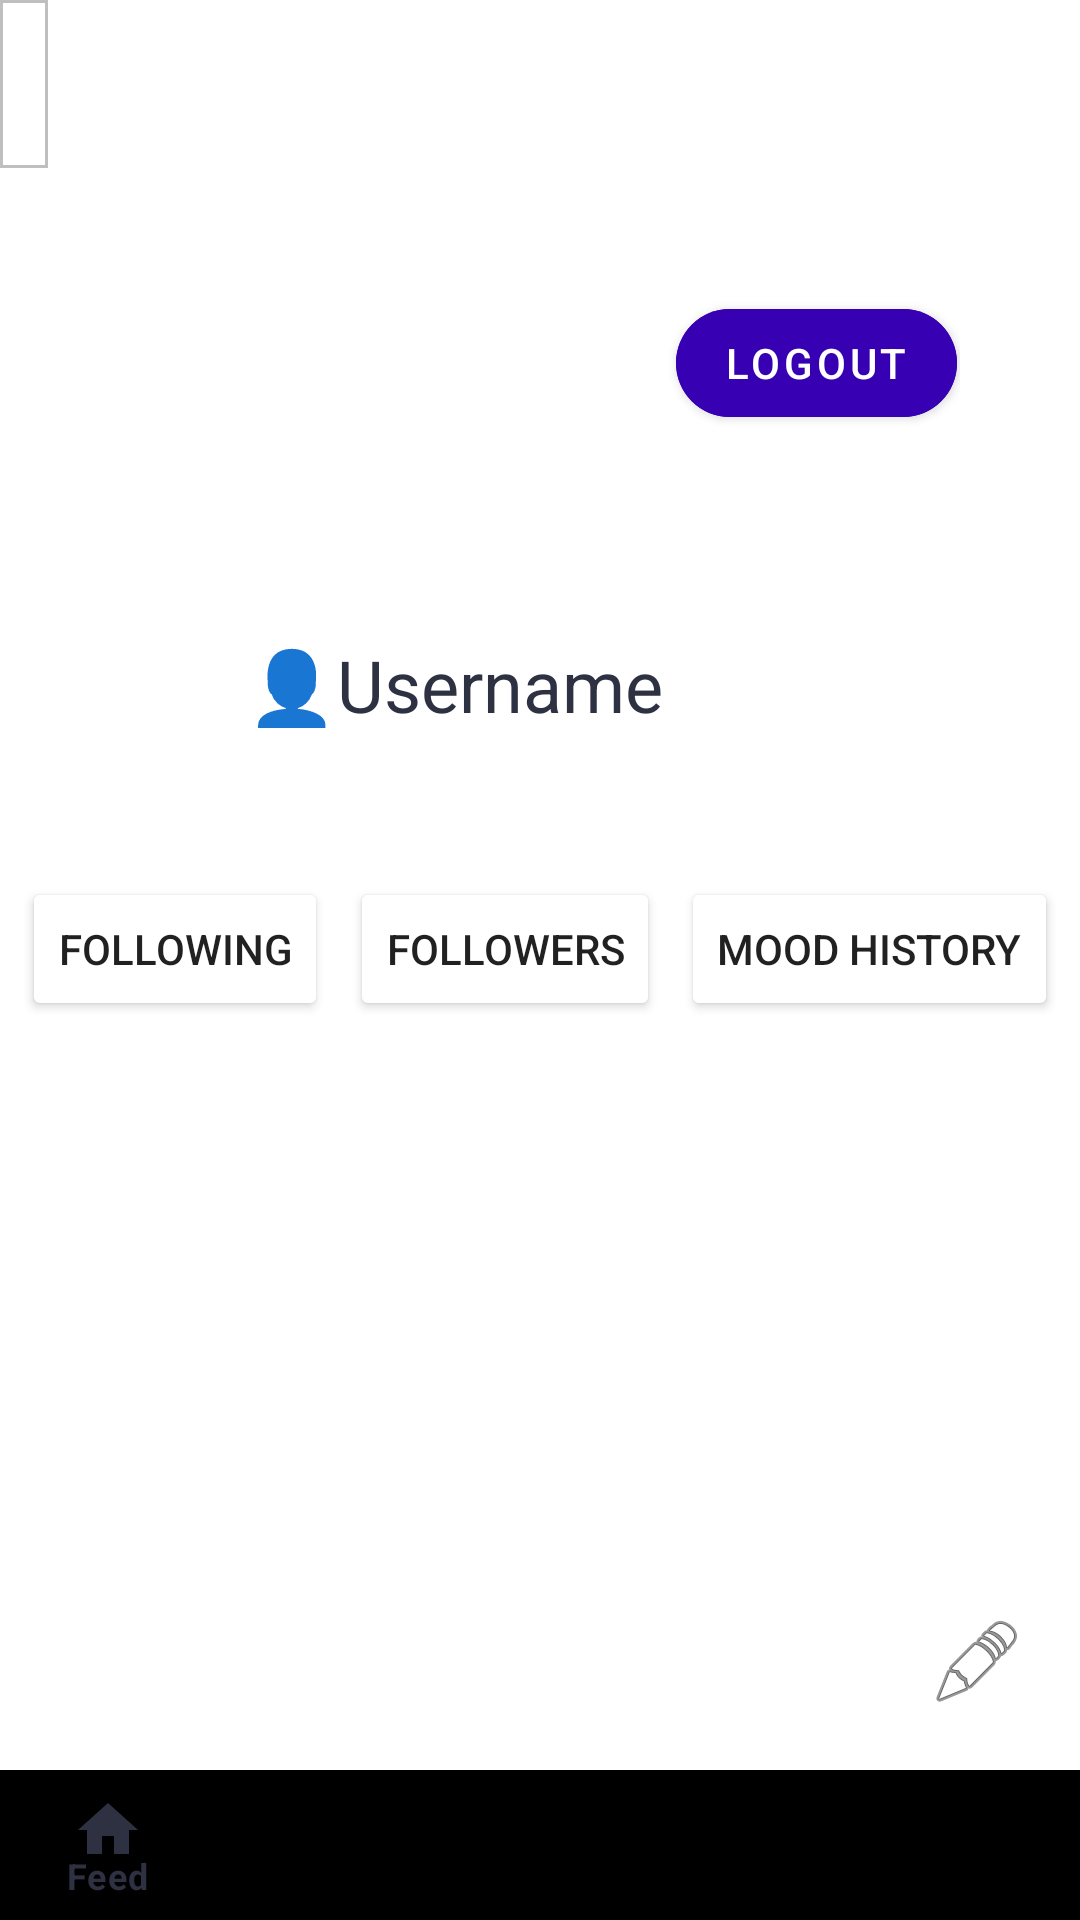

Named icons in this screenshot (1080 x 1920) and their centers, point (x, y):
edit: point (976, 1661)
